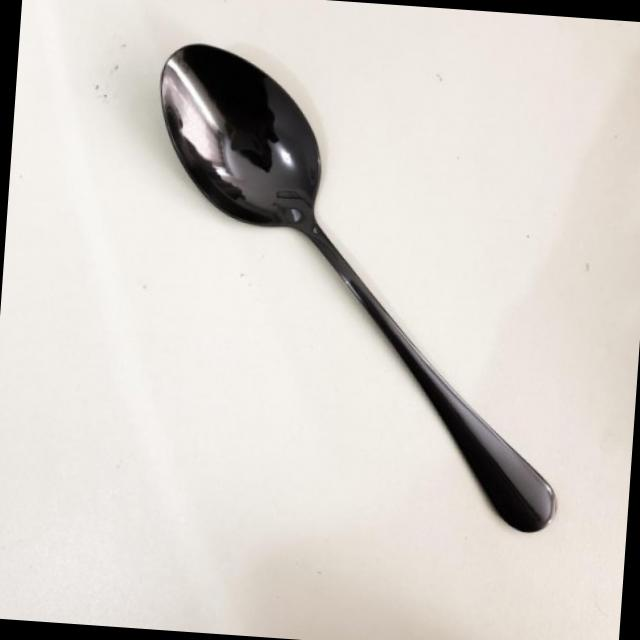spoon: (119, 35, 592, 566)
